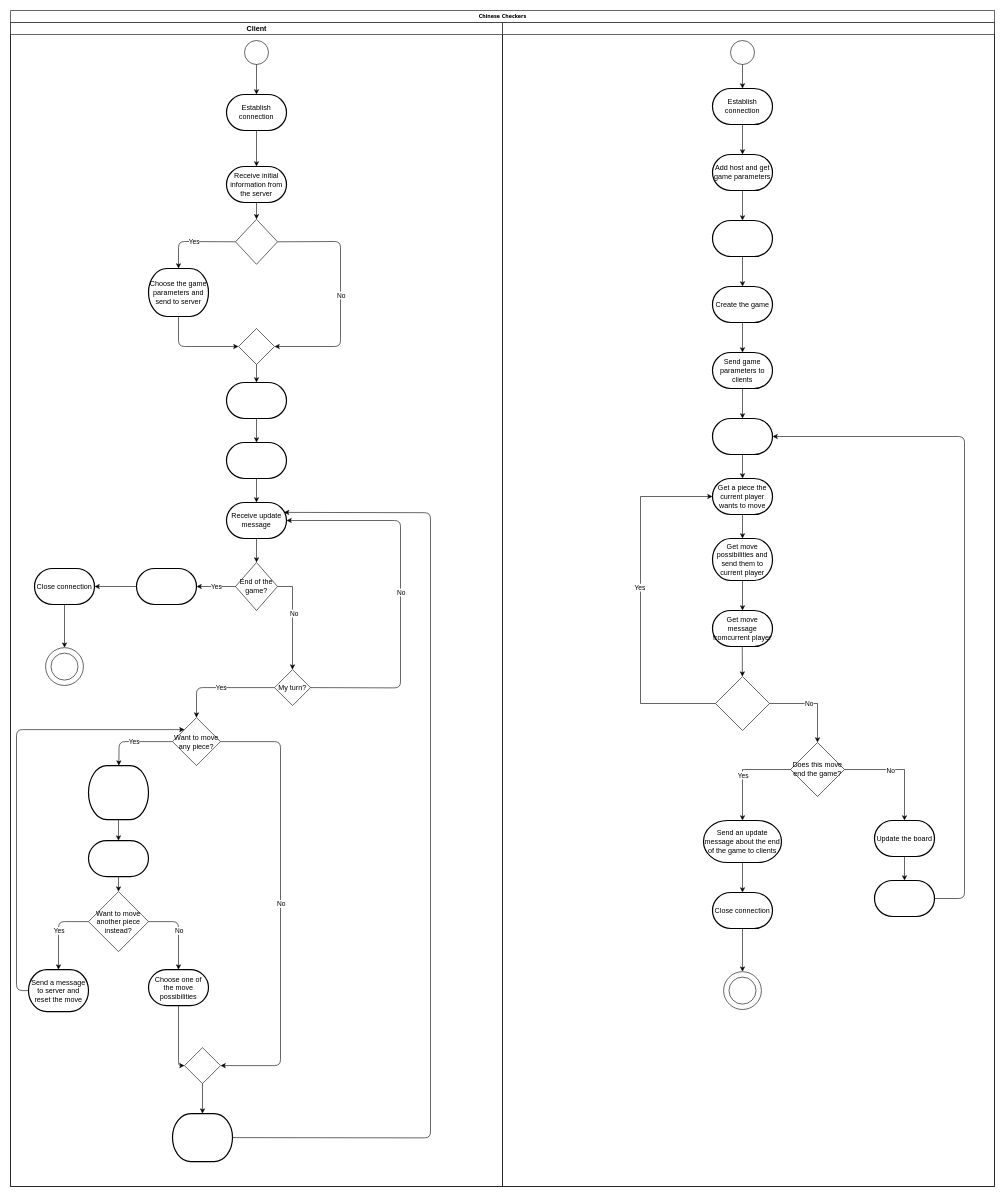
Some shapes in this 1005 by 1197 pixel diagram are drawn without their labels. Here are the shapes that lost their labels. From the top down, the box of each, then its label:
(235, 219, 278, 264): Am I host?
(712, 220, 773, 257): Add other players
(226, 382, 287, 419): Get game parameters from server
(712, 418, 773, 455): Send update message to clients
(226, 442, 287, 479): Wait for the game to start
(136, 568, 197, 605): Show the dialog box
(502, 22, 994, 1186): Server
(715, 676, 770, 730): Does the player want to reset the move?
(88, 765, 149, 820): Pick a piece you want to move and send it to server
(88, 840, 149, 877): Get move possibilities from server
(874, 880, 935, 917): Change the current player to the next one
(172, 1113, 233, 1162): Send a message to server and commit the move
